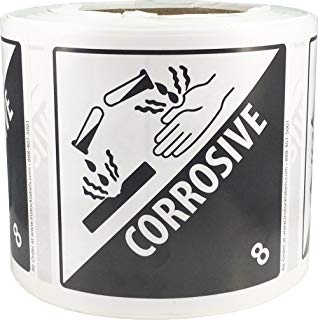Corrosive: (54, 43, 285, 290)
